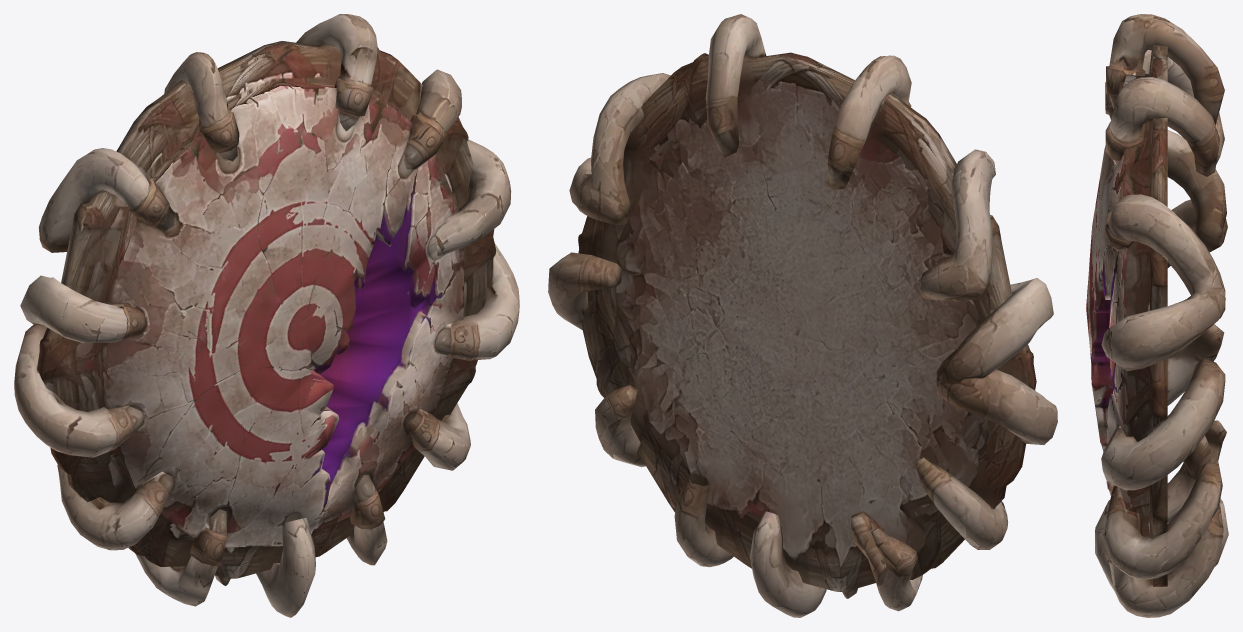
The model's file is SM_Prop_KuiBrokenDrum.glb.
3 renders of one model, left to right at view 1: azimuth 30°, elevation 25°; view 2: azimuth 150°, elevation 25°; view 3: azimuth 270°, elevation 25°, orthographic. The views are drawn at different scales.
Visible parts, largest first — view 1: SM_Prop_KuiBrokenDrum_LOD0; view 2: SM_Prop_KuiBrokenDrum_LOD0; view 3: SM_Prop_KuiBrokenDrum_LOD0.
Part boxes in pixels (x1=…): SM_Prop_KuiBrokenDrum_LOD0: x1=14, y1=14, x2=519, y2=617; SM_Prop_KuiBrokenDrum_LOD0: x1=548, y1=14, x2=1057, y2=617; SM_Prop_KuiBrokenDrum_LOD0: x1=1086, y1=14, x2=1228, y2=617.
Size of the model in its own units: 1.94 by 2.2 by 0.5084.
Materials: 1 (1 with a texture image).
